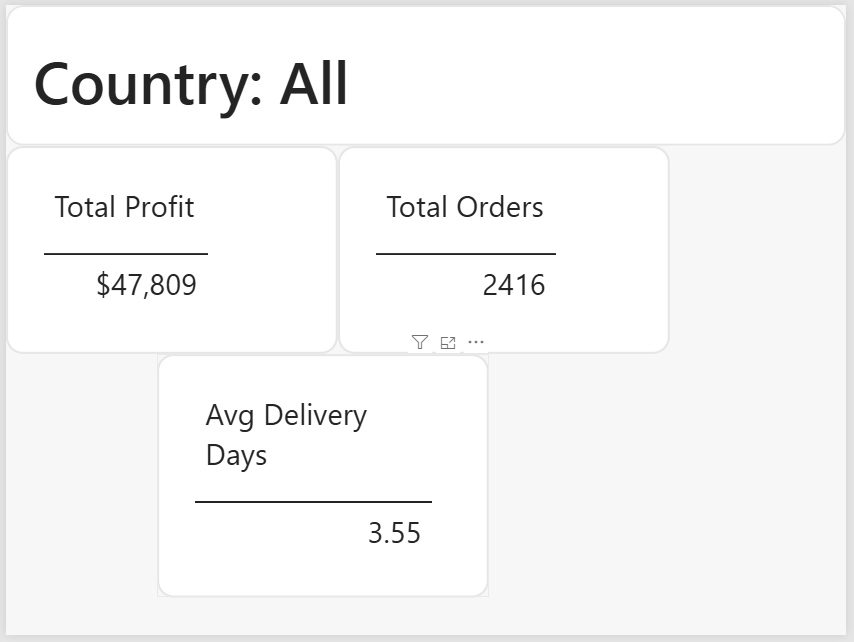

What the dashboard file says about the page in this screenshot:
{"tool":"powerbi","page":{"name":"Tooltip","canvas":[400,300],"ordinal":1},"visuals":[{"type":"tableEx","fields":{"Values":["supply_chain_final sql.Total Profit"]},"box":[0,67,158,99],"z":0},{"type":"tableEx","fields":{"Values":["supply_chain_final sql.Total Orders"]},"box":[158,67,158,99],"z":1000},{"type":"tableEx","fields":{"Values":["supply_chain_final sql.Avg Delivery Days"]},"box":[72,166,158,116],"z":2000},{"type":"cardVisual","fields":{"Data":["supply_chain_final sql.Tooltip Title"]},"box":[0,0,400,67],"z":2001}]}

Visuals, with their boxes in screenshot pixels (x1, y1, x2, y2), scaled from the page's 400x300 canvas onto the 854x642 screenshot:
tableEx - supply_chain_final sql.Total Profit: crop(0, 143, 337, 355)
tableEx - supply_chain_final sql.Total Orders: crop(337, 143, 675, 355)
tableEx - supply_chain_final sql.Avg Delivery Days: crop(154, 355, 491, 603)
cardVisual - supply_chain_final sql.Tooltip Title: crop(0, 0, 853, 143)
